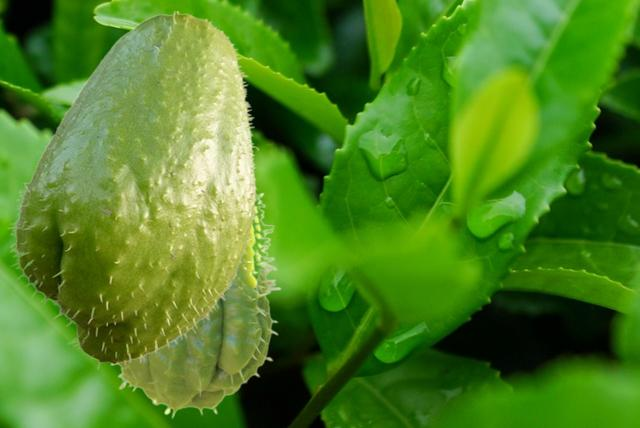sayote: (7, 11, 258, 368), (109, 190, 280, 418)
